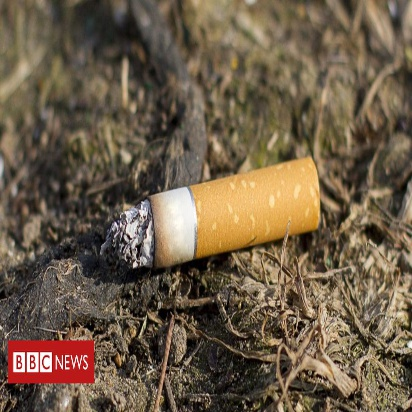cigarette: (114, 154, 327, 272)
